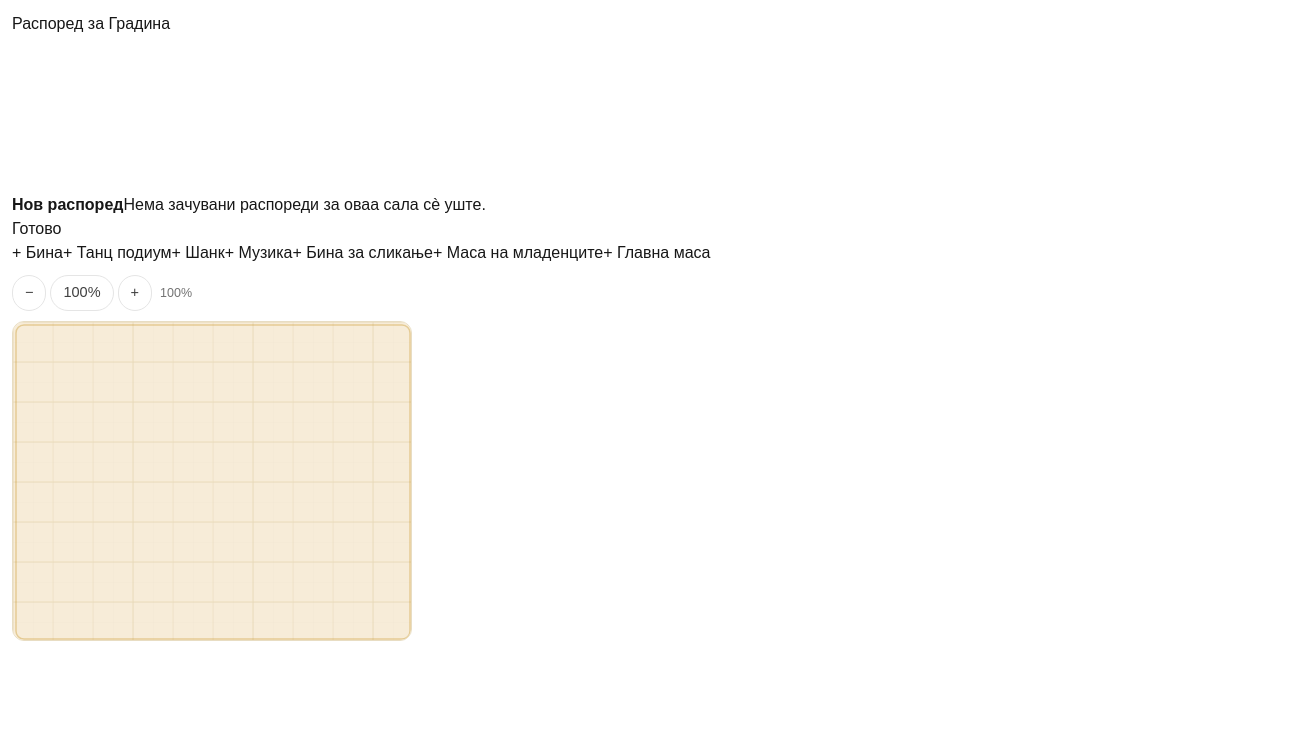
Scenario: EventRoomLayoutModal › refuses to save without a name, without resolving
Click the button "Готово" at [37, 229], box [12,217,61,241]
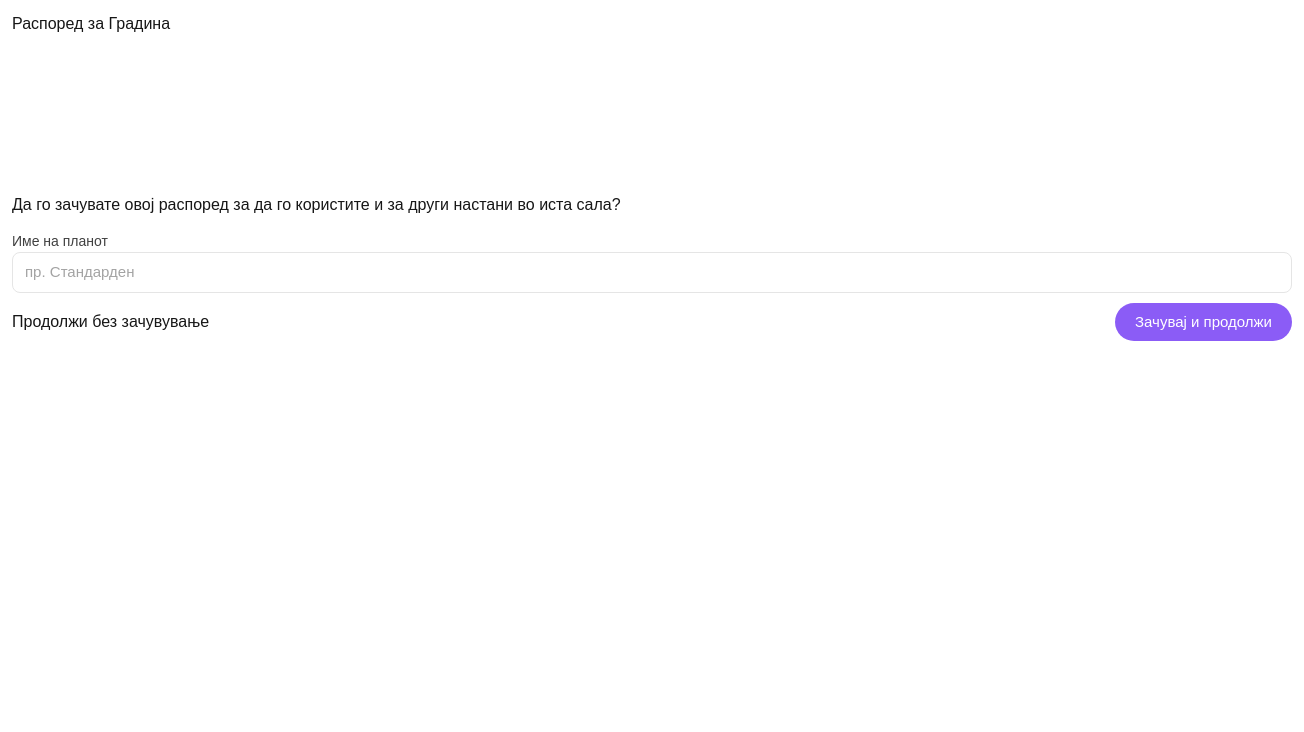
Click the button "Зачувај и продолжи" at [1204, 322], box [1115,302,1292,341]
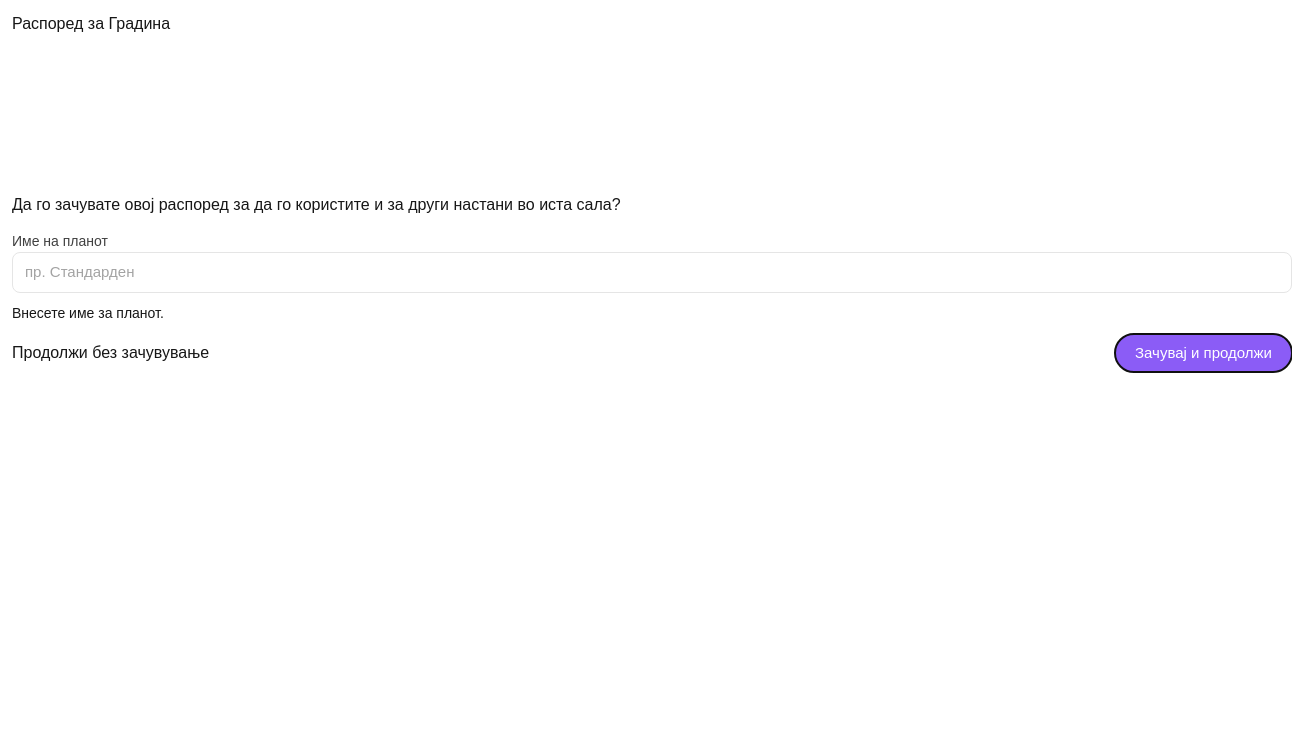
expect the text "Внесете име за планот." is shown: met, box [12,304,164,320]
